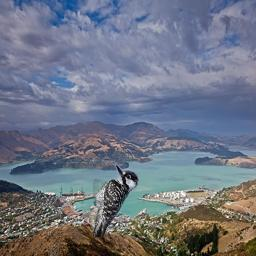Woodpecker: (79, 162, 139, 237)
